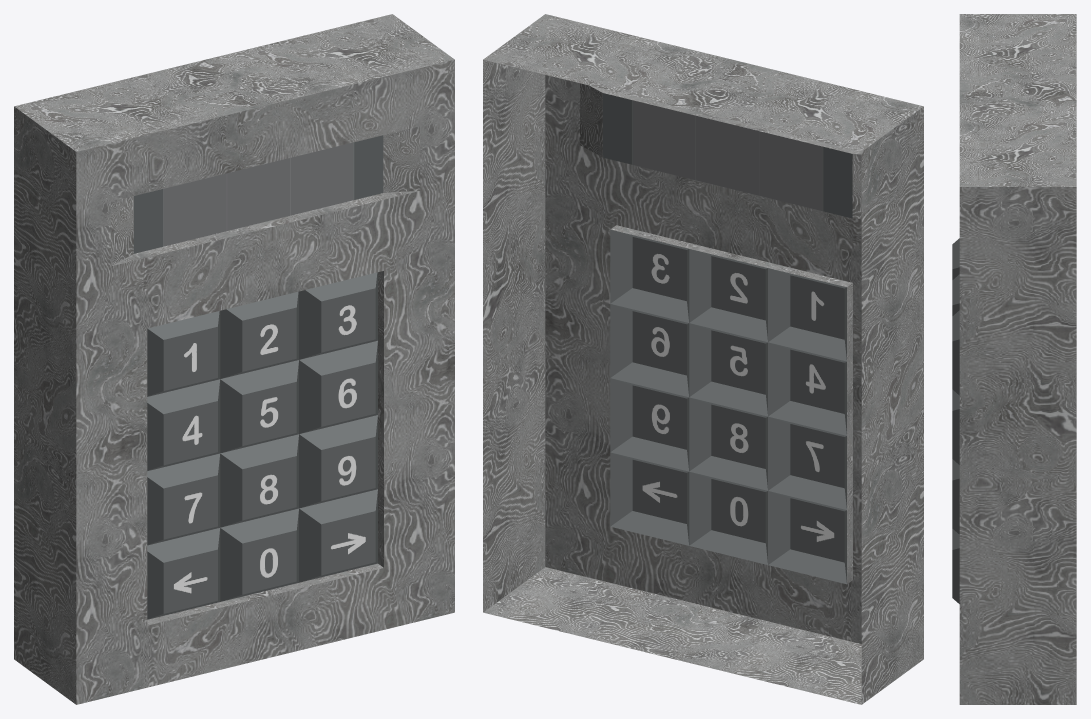
Rendered from Security keypad Export.fbx.
3 renders of one model, left to right at view 1: azimuth 30°, elevation 25°; view 2: azimuth 150°, elevation 25°; view 3: azimuth 270°, elevation 25°, orthographic. The views are drawn at different scales.
Parts seen in each view (by area): view 1: polySurface1; view 2: polySurface1; view 3: polySurface1.
Part boxes in pixels (box(x1,y1,x2,y2)): polySurface1: box(14, 14, 454, 704); polySurface1: box(483, 14, 923, 704); polySurface1: box(952, 14, 1076, 704).
Bounding box in the file's own units: 2.62 × 3.66 × 0.7954.
1 material, 1 textured.
